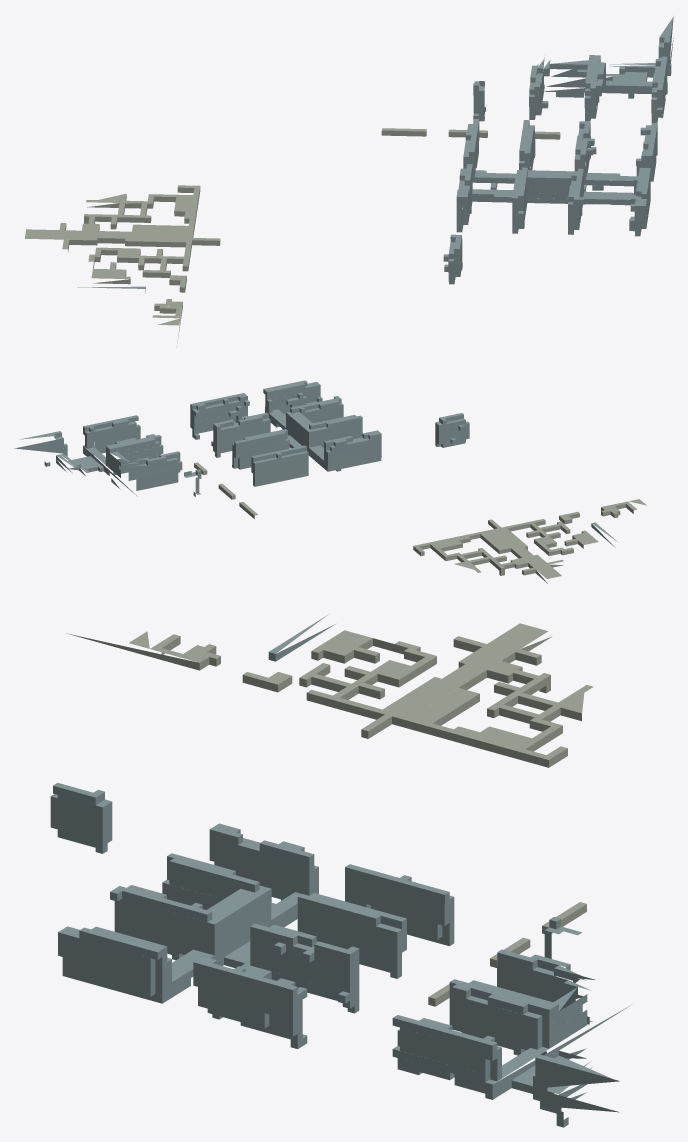
3 renders of one model, top to bottom at view 1: azimuth 30°, elevation 25°; view 2: azimuth 150°, elevation 25°; view 3: azimuth 270°, elevation 25°, orthographic. The views are drawn at different scales.
Visible parts, largest first — view 1: measured-industrial; view 2: measured-industrial; view 3: measured-industrial.
Part boxes in pixels (box(x1,y1,x2,y2)): measured-industrial: box(25, 17, 673, 347); measured-industrial: box(14, 380, 646, 583); measured-industrial: box(50, 614, 630, 1127).
Size of the model in its own units: 216 by 13.03 by 103.
